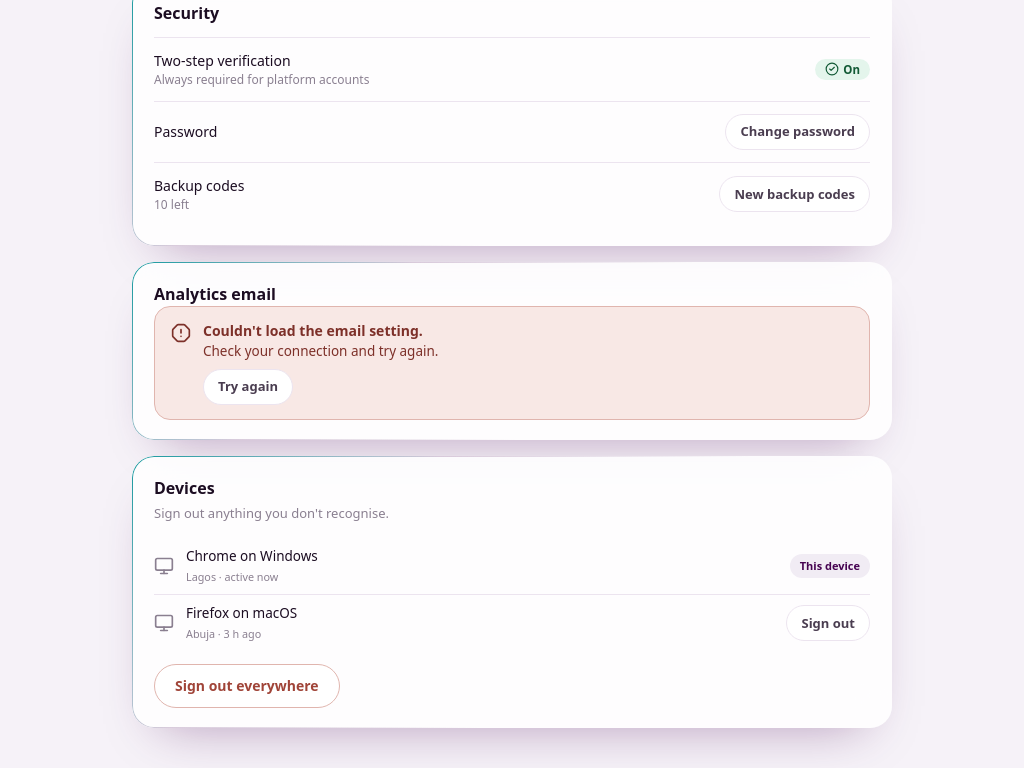
Test: Account › signing out a device removes it
This screenshot has width=1024, height=768.
(page scrolled)
Expected: the text "Firefox on macOS" is shown, [186,604,297,622]
Expected: the text "This device" is shown, [790,554,870,578]
Step 1. Click the button with aria-label "Sign out Firefox on macOS" → {"x": 828, "y": 623}, box [786,605,870,641]
(page scrolled)
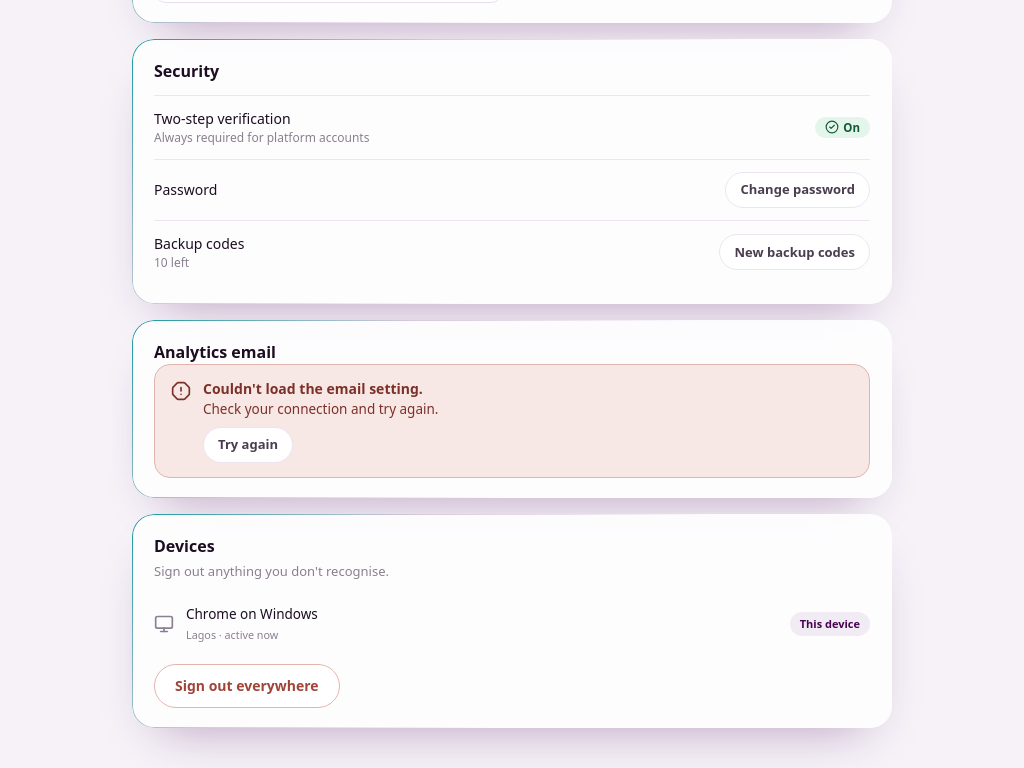
Expected: the text "Chrome on Windows" is shown, [186,604,318,622]
Now the text "Firefox on macOS" is gone
